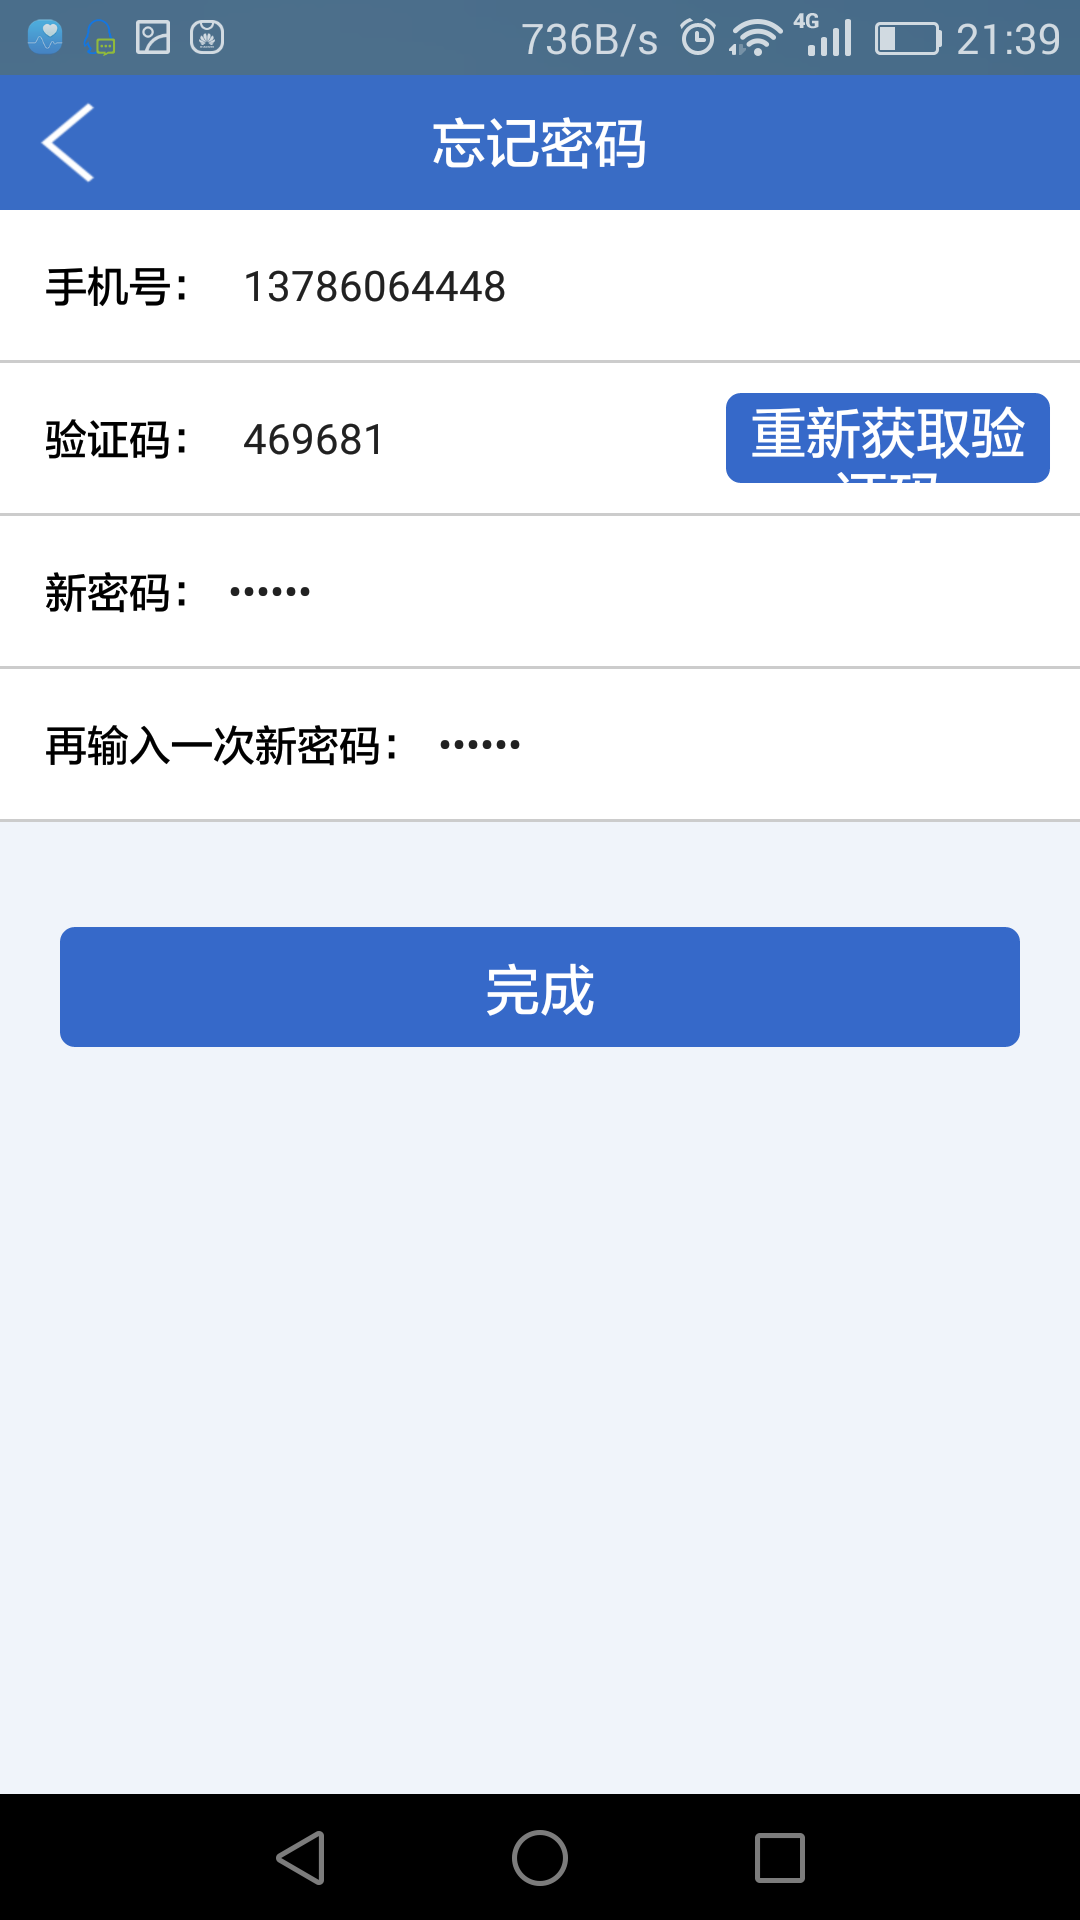button: (47, 916, 1035, 1062), (713, 380, 1062, 498)
textview: (3, 206, 1080, 823)
